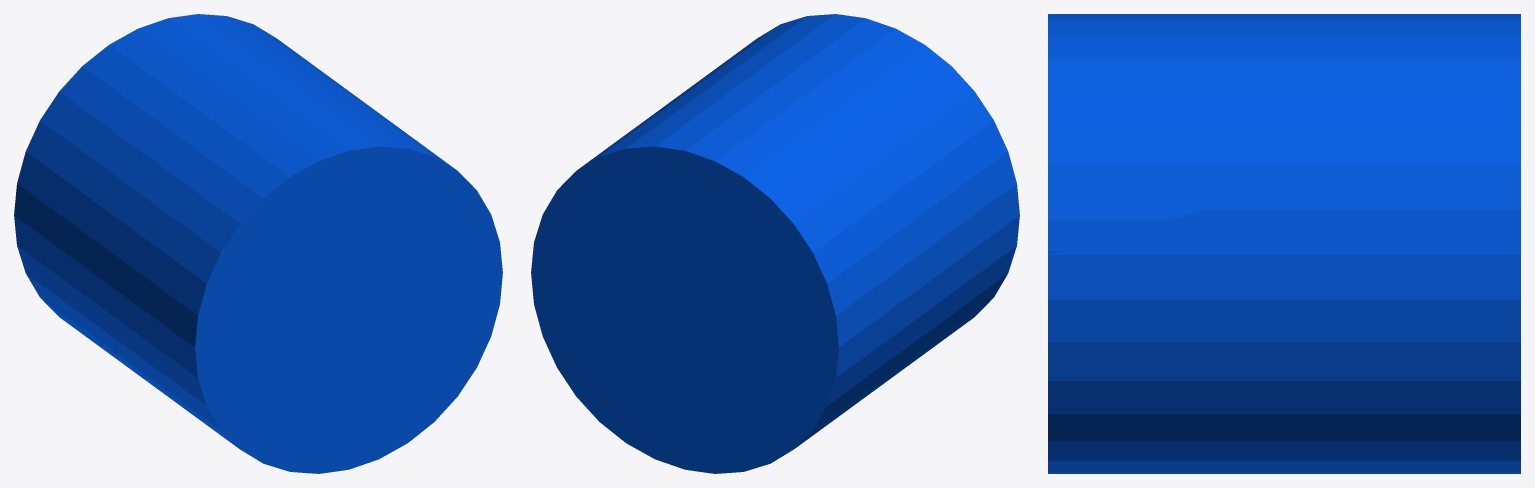
Rendered from cilindro2.fbx.
3 renders of one model, left to right at view 1: azimuth 30°, elevation 25°; view 2: azimuth 150°, elevation 25°; view 3: azimuth 270°, elevation 25°, orthographic. The views are drawn at different scales.
Parts seen in each view (by area): view 1: Cylinder; view 2: Cylinder; view 3: Cylinder.
Part boxes in pixels (bbox=[...]): Cylinder: bbox=[14, 14, 502, 473]; Cylinder: bbox=[531, 14, 1019, 473]; Cylinder: bbox=[1048, 14, 1520, 473].
Bounding box in the file's own units: 295 × 292 × 300.
